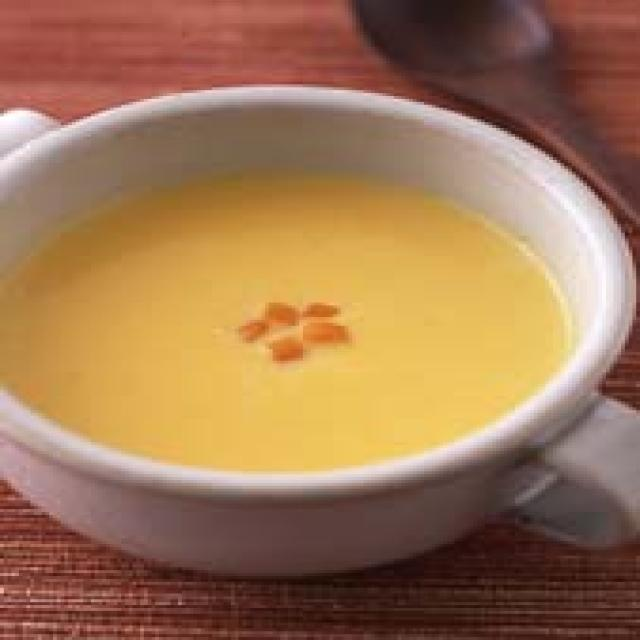汤锅炖物: (0, 73, 640, 582)
